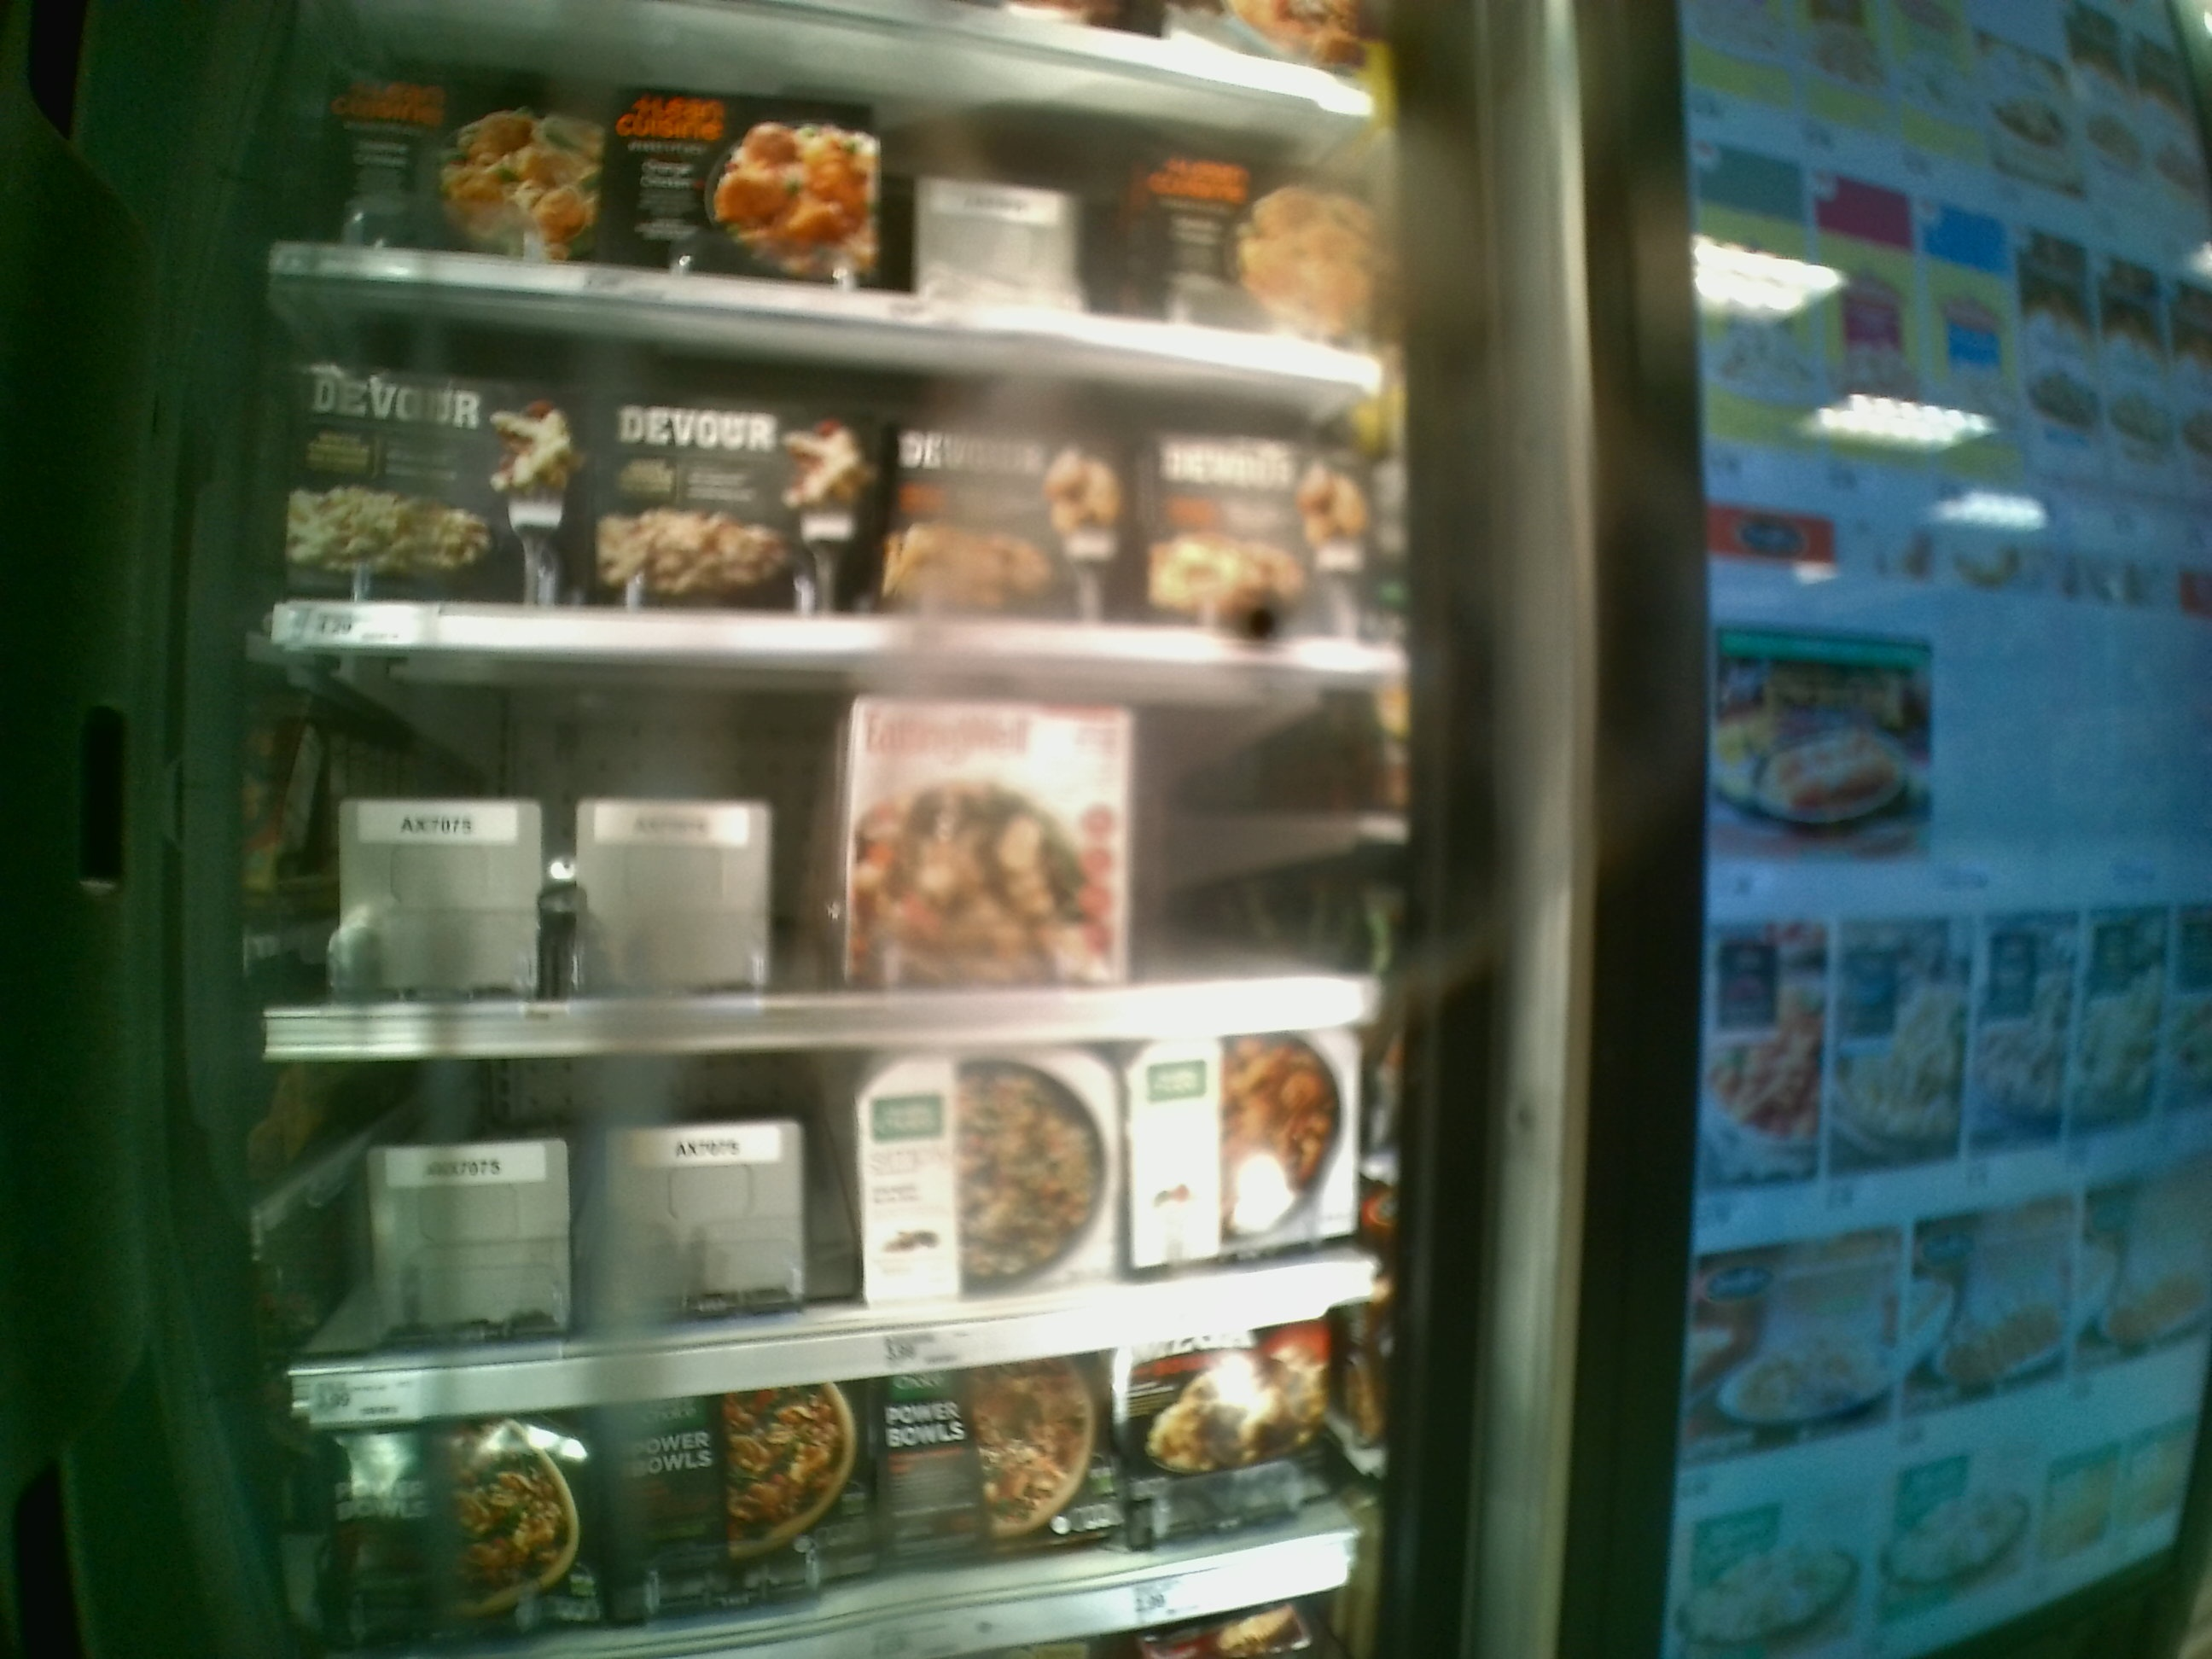Shelf: (251, 636, 1374, 1053), (249, 1025, 1374, 1410)
